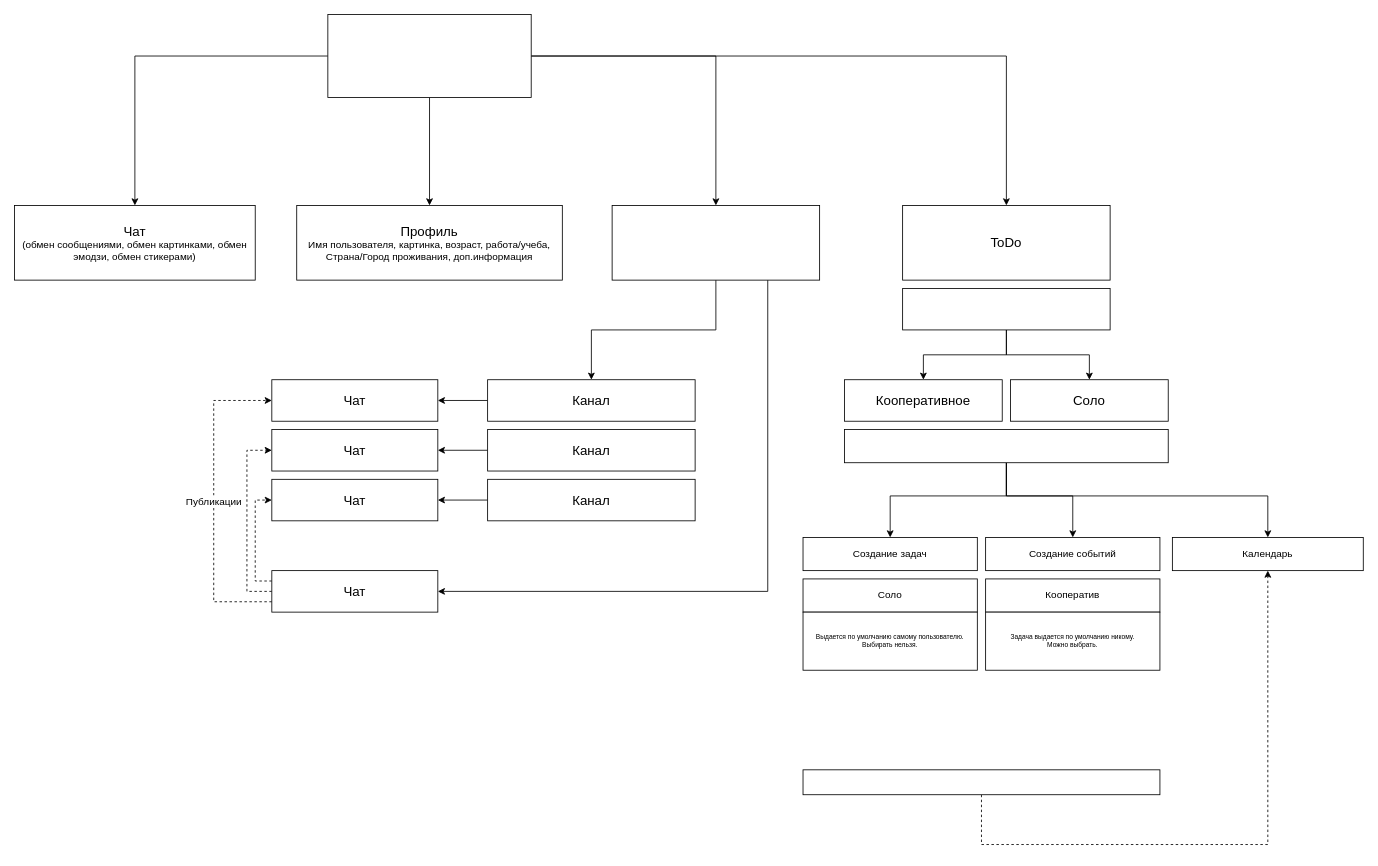
The diagram is 1378 pixels wide and 866 high, and some of its shapes have lost their labels. The shapes that lost their labels are listed below. From the top down, each one's centre as x and y in pixels, then its label:
[429,56]: Young Entrepreneur Hub (YEHub)
[715,242]: Группа
[1006,309]: Создание проекта
[1006,446]: Имеют возможность сменить режим
[981,782]: Отображение
